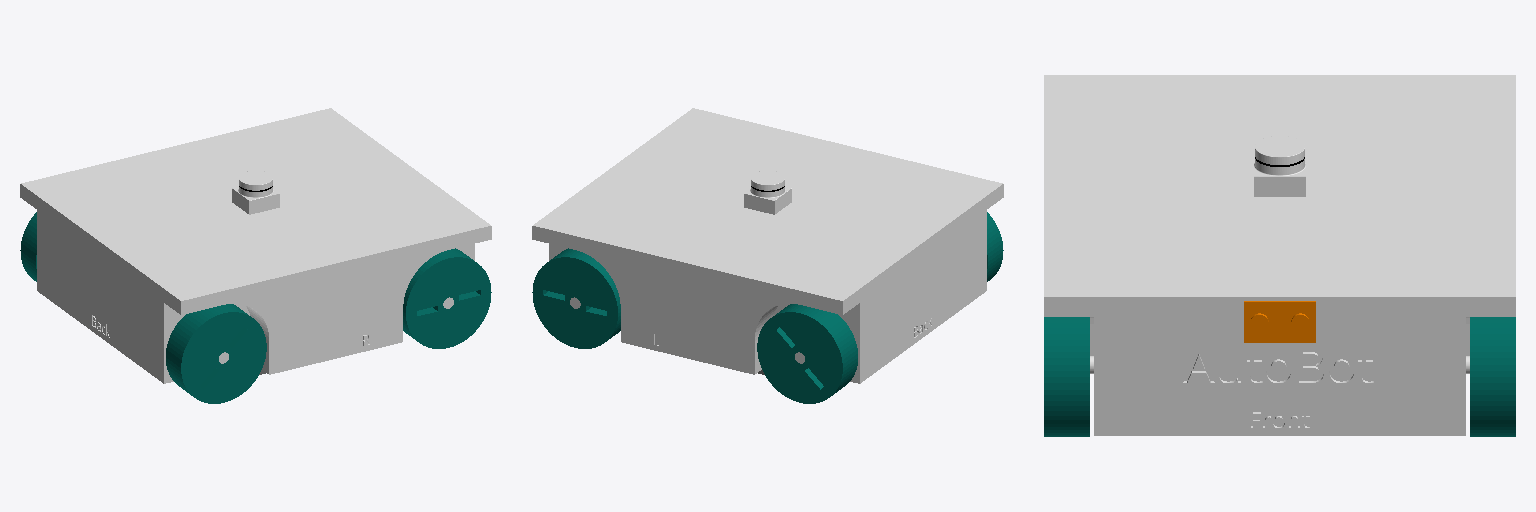
The robot description file, URDF, robot "meshes":
<?xml version="1.0" ?>
<!-- Generated using onshape-to-robot -->
<!-- Onshape https://cad.onshape.com/documents/480be4967933c02b4973d044/w/c1990993726ba685245c3466/e/2387f92d01afa76960d9c6e3 -->
<robot name="meshes">
  <!-- Link base_link -->
  <link name="base_link">
    <inertial>
      <origin xyz="-0.000645097 1.49348e-05 0.123911" rpy="0 0 0"/>
      <mass value="19.3771"/>
      <inertia ixx="0.656608" ixy="-1.63412e-05" ixz="2.74753e-05" iyy="0.740294" iyz="2.27431e-05" izz="1.21202"/>
    </inertial>
    <!-- Part base_link -->
    <visual>
      <origin xyz="-0 0 0" rpy="0 -0 0"/>
      <geometry>
        <mesh filename="package://autobot_description/meshes/robot/base_link.stl"/>
      </geometry>
      <material name="base_link_material">
        <color rgba="0.917647 0.917647 0.917647 1"/>
      </material>
    </visual>
    <collision>
      <origin xyz="-0 0 0" rpy="0 -0 0"/>
      <geometry>
        <mesh filename="package://autobot_description/meshes/robot/base_link.stl"/>
      </geometry>
    </collision>
  </link>
  <!-- Link base_footprint -->
  <link name="base_footprint">
    <inertial>
      <origin xyz="0 0 0" rpy="0 0 0"/>
      <mass value="1e-09"/>
      <inertia ixx="1e-09" ixy="0" ixz="0" iyy="1e-09" iyz="0" izz="1e-09"/>
    </inertial>
    <!-- Part base_footprint -->
    <visual>
      <origin xyz="-0 0 -0.03" rpy="0 -0 0"/>
      <geometry>
        <mesh filename="package://autobot_description/meshes/robot/base_footprint.stl"/>
      </geometry>
      <material name="base_footprint_material">
        <color rgba="0.498039 0.498039 0.498039 1"/>
      </material>
    </visual>
    <collision>
      <origin xyz="-0 0 -0.03" rpy="0 -0 0"/>
      <geometry>
        <mesh filename="package://autobot_description/meshes/robot/base_footprint.stl"/>
      </geometry>
    </collision>
  </link>
  <!-- Joint from base_link to base_footprint -->
  <joint name="base_footprint" type="fixed">
    <origin xyz="0 0 0.03" rpy="0 -0 0"/>
    <parent link="base_link"/>
    <child link="base_footprint"/>
    <axis xyz="0 0 1"/>
    <limit effort="10" velocity="10"/>
  </joint>
  <!-- Link laser_frame -->
  <link name="laser_frame">
    <inertial>
      <origin xyz="-0 -0 -0.00125" rpy="0 0 0"/>
      <mass value="0.00110509"/>
      <inertia ixx="3.96821e-07" ixy="0" ixz="0" iyy="3.96821e-07" iyz="0" izz="7.92491e-07"/>
    </inertial>
    <!-- Part laser_frame -->
    <visual>
      <origin xyz="-0 -0 0.2355" rpy="3.14159 -0 0"/>
      <geometry>
        <mesh filename="package://autobot_description/meshes/robot/laser_frame.stl"/>
      </geometry>
      <material name="laser_frame_material">
        <color rgba="0 0 0 1"/>
      </material>
    </visual>
    <collision>
      <origin xyz="-0 -0 0.2355" rpy="3.14159 -0 0"/>
      <geometry>
        <mesh filename="package://autobot_description/meshes/robot/laser_frame.stl"/>
      </geometry>
    </collision>
  </link>
  <!-- Joint from base_link to laser_frame -->
  <joint name="laser_frame_joint" type="fixed">
    <origin xyz="-0 -0 0.2355" rpy="3.14159 -0 0"/>
    <parent link="base_link"/>
    <child link="laser_frame"/>
    <axis xyz="0 0 1"/>
    <limit effort="10" velocity="10"/>
  </joint>
  <!-- Link front_right_wheel_link -->
  <link name="front_right_wheel_link">
    <inertial>
      <origin xyz="0 0 -0.025" rpy="0 0 0"/>
      <mass value="1.13952"/>
      <inertia ixx="0.00216552" ixy="9.6e-06" ixz="-0" iyy="0.00208392" iyz="0" izz="0.00377465"/>
    </inertial>
    <!-- Part front_right_wheel_link -->
    <visual>
      <origin xyz="-0.21 -0.08 -0.26" rpy="-1.5708 -0 0"/>
      <geometry>
        <mesh filename="package://autobot_description/meshes/robot/front_right_wheel_link.stl"/>
      </geometry>
      <material name="front_right_wheel_link_material">
        <color rgba="0.0470588 0.470588 0.435294 1"/>
      </material>
    </visual>
    <collision>
      <origin xyz="-0.21 -0.08 -0.26" rpy="-1.5708 -0 0"/>
      <geometry>
        <mesh filename="package://autobot_description/meshes/robot/front_right_wheel_link.stl"/>
      </geometry>
    </collision>
  </link>
  <!-- Joint from base_link to front_right_wheel_link -->
  <joint name="front_right_wheel_joint" type="continuous">
    <origin xyz="0.21 -0.26 0.08" rpy="1.5708 -0 0"/>
    <parent link="base_link"/>
    <child link="front_right_wheel_link"/>
    <axis xyz="0 0 1"/>
    <limit effort="10" velocity="10"/>
  </joint>
  <!-- Link front_left_wheel_link -->
  <link name="front_left_wheel_link">
    <inertial>
      <origin xyz="0 0 -0.025" rpy="0 0 0"/>
      <mass value="1.13952"/>
      <inertia ixx="0.00216552" ixy="-9.6e-06" ixz="-0" iyy="0.00208392" iyz="-0" izz="0.00377465"/>
    </inertial>
    <!-- Part front_left_wheel_link -->
    <visual>
      <origin xyz="-0.21 0.08 -0.26" rpy="1.5708 -0 0"/>
      <geometry>
        <mesh filename="package://autobot_description/meshes/robot/front_left_wheel_link.stl"/>
      </geometry>
      <material name="front_left_wheel_link_material">
        <color rgba="0.0470588 0.470588 0.435294 1"/>
      </material>
    </visual>
    <collision>
      <origin xyz="-0.21 0.08 -0.26" rpy="1.5708 -0 0"/>
      <geometry>
        <mesh filename="package://autobot_description/meshes/robot/front_left_wheel_link.stl"/>
      </geometry>
    </collision>
  </link>
  <!-- Joint from base_link to front_left_wheel_link -->
  <joint name="front_left_wheel_joint" type="continuous">
    <origin xyz="0.21 0.26 0.08" rpy="-1.5708 -0 0"/>
    <parent link="base_link"/>
    <child link="front_left_wheel_link"/>
    <axis xyz="0 0 1"/>
    <limit effort="10" velocity="10"/>
  </joint>
  <!-- Link back_right_wheel_link -->
  <link name="back_right_wheel_link">
    <inertial>
      <origin xyz="-0 0 -0.025" rpy="0 0 0"/>
      <mass value="1.13952"/>
      <inertia ixx="0.00211984" ixy="4.16292e-05" ixz="-0" iyy="0.0021296" iyz="0" izz="0.00377465"/>
    </inertial>
    <!-- Part back_right_wheel_link -->
    <visual>
      <origin xyz="0.21 -0.08 -0.26" rpy="-1.5708 -0 0"/>
      <geometry>
        <mesh filename="package://autobot_description/meshes/robot/back_right_wheel_link.stl"/>
      </geometry>
      <material name="back_right_wheel_link_material">
        <color rgba="0.0470588 0.470588 0.435294 1"/>
      </material>
    </visual>
    <collision>
      <origin xyz="0.21 -0.08 -0.26" rpy="-1.5708 -0 0"/>
      <geometry>
        <mesh filename="package://autobot_description/meshes/robot/back_right_wheel_link.stl"/>
      </geometry>
    </collision>
  </link>
  <!-- Joint from base_link to back_right_wheel_link -->
  <joint name="rear_right_wheel_joint" type="continuous">
    <origin xyz="-0.21 -0.26 0.08" rpy="1.5708 -0 0"/>
    <parent link="base_link"/>
    <child link="back_right_wheel_link"/>
    <axis xyz="0 0 1"/>
    <limit effort="10" velocity="10"/>
  </joint>
  <!-- Link back_left_wheel_link -->
  <link name="back_left_wheel_link">
    <inertial>
      <origin xyz="-0 -0 -0.025" rpy="0 0 0"/>
      <mass value="1.13952"/>
      <inertia ixx="0.00211984" ixy="-4.16292e-05" ixz="-0" iyy="0.0021296" iyz="-0" izz="0.00377465"/>
    </inertial>
    <!-- Part back_left_wheel_link -->
    <visual>
      <origin xyz="0.21 0.08 -0.26" rpy="1.5708 -0 0"/>
      <geometry>
        <mesh filename="package://autobot_description/meshes/robot/back_left_wheel_link.stl"/>
      </geometry>
      <material name="back_left_wheel_link_material">
        <color rgba="0.0470588 0.470588 0.435294 1"/>
      </material>
    </visual>
    <collision>
      <origin xyz="0.21 0.08 -0.26" rpy="1.5708 -0 0"/>
      <geometry>
        <mesh filename="package://autobot_description/meshes/robot/back_left_wheel_link.stl"/>
      </geometry>
    </collision>
  </link>
  <!-- Joint from base_link to back_left_wheel_link -->
  <joint name="rear_left_wheel_joint" type="continuous">
    <origin xyz="-0.21 0.26 0.08" rpy="-1.5708 -0 0"/>
    <parent link="base_link"/>
    <child link="back_left_wheel_link"/>
    <axis xyz="0 0 1"/>
    <limit effort="10" velocity="10"/>
  </joint>
  <!-- Link rgbd_camera_link -->
  <link name="rgbd_camera_link">
    <inertial>
      <origin xyz="-0 -0.000140937 -0.00297824" rpy="0 0 0"/>
      <mass value="0.0151912"/>
      <inertia ixx="2.51438e-06" ixy="0" ixz="0" iyy="6.58666e-06" iyz="-6.47e-09" izz="9.005e-06"/>
    </inertial>
    <!-- Part rgbd_camera_link -->
    <visual>
      <origin xyz="0 0.17 0.288" rpy="1.5708 1.5708 0"/>
      <geometry>
        <mesh filename="package://autobot_description/meshes/robot/rgbd_camera_link.stl"/>
      </geometry>
      <material name="rgbd_camera_link_material">
        <color rgba="0.972549 0.529412 0.00392157 1"/>
      </material>
    </visual>
    <collision>
      <origin xyz="0 0.17 0.288" rpy="1.5708 1.5708 0"/>
      <geometry>
        <mesh filename="package://autobot_description/meshes/robot/rgbd_camera_link.stl"/>
      </geometry>
    </collision>
  </link>
  <!-- Joint from base_link to rgbd_camera_link -->
  <joint name="rgbd_camera_joint" type="fixed">
    <origin xyz="0.288 0 0.17" rpy="-1.5708 -0 1.5708"/>
    <parent link="base_link"/>
    <child link="rgbd_camera_link"/>
    <axis xyz="0 0 1"/>
    <limit effort="10" velocity="10"/>
  </joint>
</robot>

--- Facts derived from the render (not from the file) ---
The picture shows the robot from 3 angles, left to right: view 1: azimuth 30°, elevation 25°; view 2: azimuth 150°, elevation 25°; view 3: azimuth 270°, elevation 25°; orthographic projection.
Robot: meshes — 8 links, 7 joints (4 continuous, 3 fixed); root link base_link; default pose: all joints at 0.
Links seen in each view (by area): view 1: base_link, back_right_wheel_link, front_right_wheel_link, back_left_wheel_link; view 2: base_link, back_left_wheel_link, front_left_wheel_link, back_right_wheel_link; view 3: base_link, front_right_wheel_link, front_left_wheel_link, rgbd_camera_link.
Boxes of the visible links, x1,y1,x2,y2 form: base_link: [20, 108, 491, 383]; back_right_wheel_link: [166, 304, 266, 403]; front_right_wheel_link: [403, 248, 491, 348]; back_left_wheel_link: [20, 212, 36, 281]; base_link: [532, 108, 1003, 383]; back_left_wheel_link: [757, 304, 857, 403]; front_left_wheel_link: [532, 248, 620, 348]; back_right_wheel_link: [987, 212, 1003, 281]; base_link: [1044, 75, 1515, 435]; front_right_wheel_link: [1044, 317, 1089, 436]; front_left_wheel_link: [1470, 317, 1515, 436]; rgbd_camera_link: [1244, 301, 1315, 342].
Size in the robot's own frame: 0.586 by 0.52 by 0.273 metres.
Meshes: 8 distinct files referenced, 8 mesh visuals loaded (8 binary STL).
